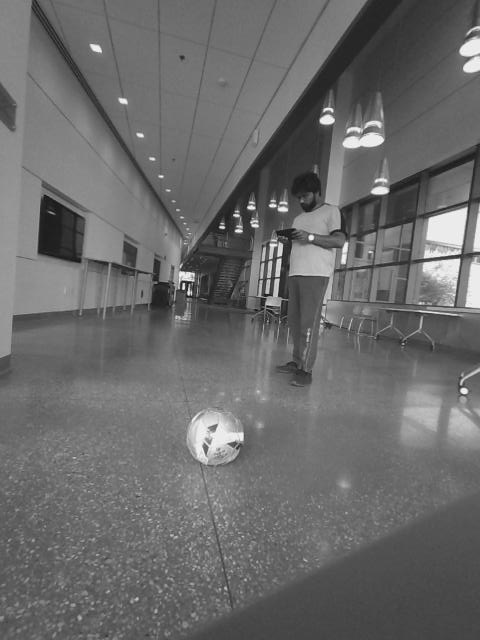ball: (182, 405, 248, 466)
